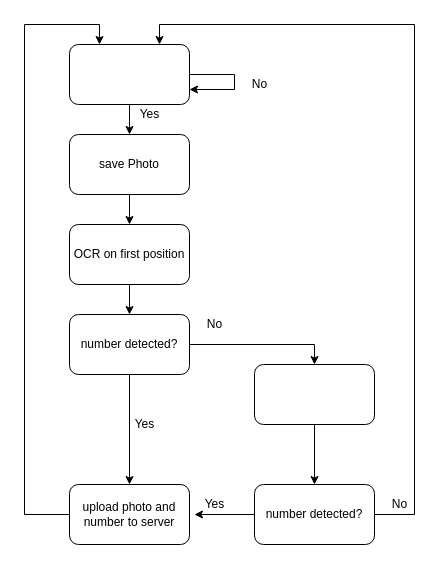
The diagram is 440 pixels wide and 562 high, and some of its shapes have lost their labels. The shapes that lost their labels are listed below. From the top down, each one's centre as x and y in pixels, then its label:
At pixel 129 74: "Brightness detected".
At pixel 314 394: "OCR on second position".
